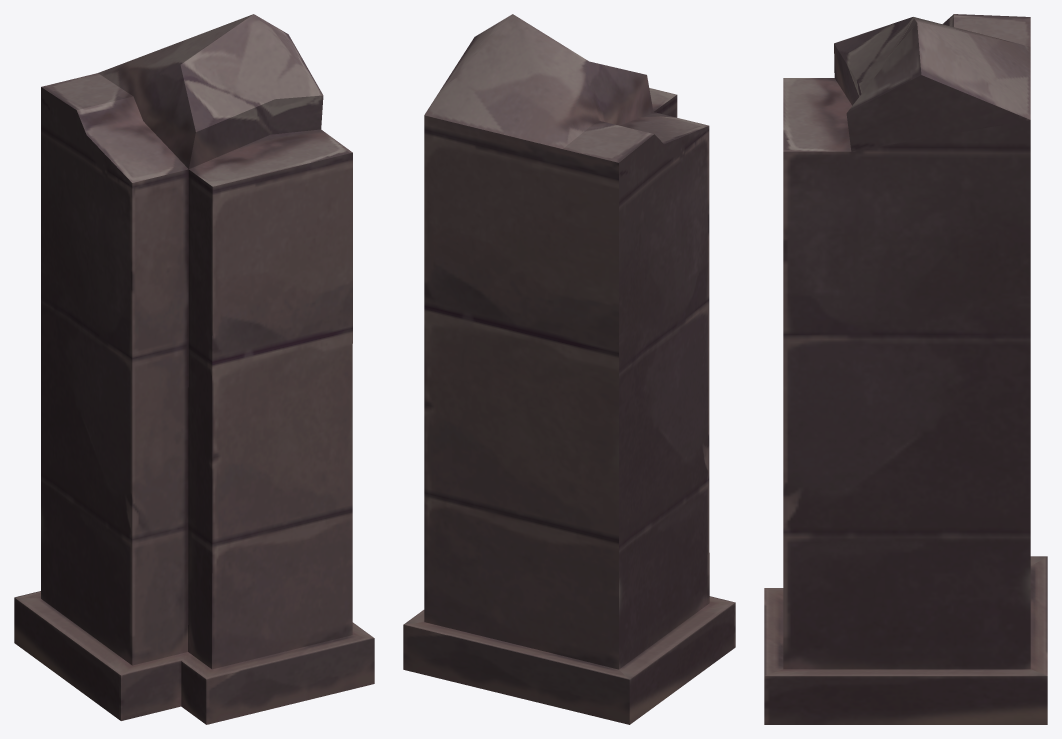
Rendered from Boss_11.FBX.
The picture shows the model from 3 angles, left to right: view 1: azimuth 30°, elevation 25°; view 2: azimuth 150°, elevation 25°; view 3: azimuth 270°, elevation 25°; orthographic projection. The views are drawn at different scales.
Visible parts, largest first — view 1: Boss_11; view 2: Boss_11; view 3: Boss_11.
Part boxes in pixels (<box>): Boss_11: <box>14,14,374,724</box>; Boss_11: <box>403,14,735,724</box>; Boss_11: <box>764,14,1047,724</box>.
Size of the model in its own units: 2.37 by 6.23 by 2.37.
